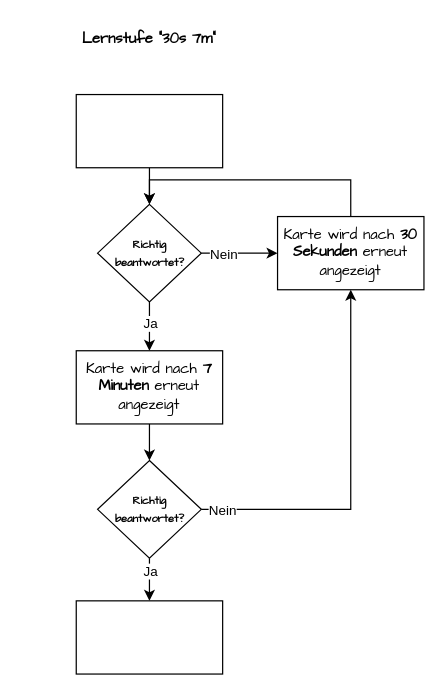
The diagram is 445 pixels wide and 695 high, and some of its shapes have lost their labels. The shapes that lost their labels are listed below. From the top down, each one's centre as x and y in pixels, then its label:
point (149, 130): Karte wird angezeigt
point (149, 637): Karte wird erst am nächsten Tag wieder angezeigt
